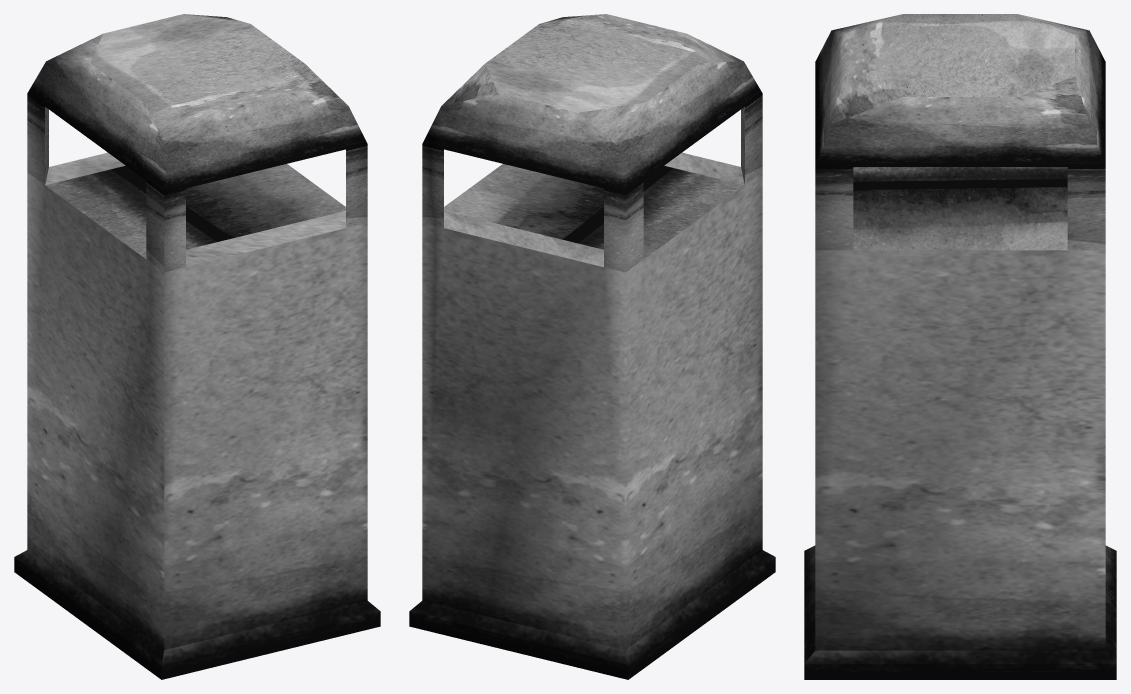
File: TrashCan.fbx
3 views of the same model, side by side, from view 1: azimuth 30°, elevation 25°; view 2: azimuth 150°, elevation 25°; view 3: azimuth 270°, elevation 25° (orthographic). The views are drawn at different scales.
Parts seen in each view (by area): view 1: Trashcan; view 2: Trashcan; view 3: Trashcan.
Part boxes in pixels (<box>): Trashcan: <box>14,14,380,679</box>; Trashcan: <box>409,14,775,679</box>; Trashcan: <box>804,14,1116,679</box>.
Bounding box in the file's own units: 0.6715 × 1.57 × 0.7827.
